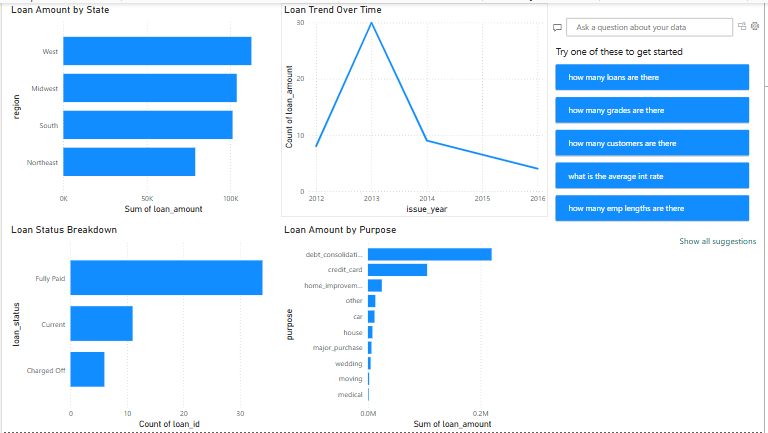

What the dashboard file says about the page in this screenshot:
{"tool":"powerbi","page":{"name":"Analytics visuals","canvas":[1280,720],"ordinal":2},"visuals":[{"type":"barChart","title":"Loan Amount by State","fields":{"Category":["state_region.region"],"Y":["Sum(loan.loan_amount)"]},"box":[10.1,0,448.5,359.5],"z":0},{"type":"barChart","title":"Loan Status Breakdown","fields":{"Category":["loan.loan_status"],"Y":["CountNonNull(loan.loan_id)"]},"box":[10,369,449,351],"z":1},{"type":"lineChart","title":"Loan Trend Over Time","fields":{"Category":["loan_count_by_year.issue_year"],"Y":["CountNonNull(loan.loan_amount)"]},"box":[469,0,449,359],"z":2},{"type":"barChart","title":"Loan Amount by Purpose","fields":{"Category":["loan_purposes.purpose"],"Y":["Sum(loan.loan_amount)"]},"box":[469,369,449,351],"z":3},{"type":"qnaVisual","box":[917.2,0,362.8,648.4],"z":4}]}

Visuals, with their boxes in screenshot pixels (x1, y1, x2, y2), scaled from the page's 1280x720 canvas onto the 768x433 screenshot:
"Loan Amount by State" barChart: region(6, 0, 275, 216)
"Loan Status Breakdown" barChart: region(6, 222, 275, 432)
"Loan Trend Over Time" lineChart: region(281, 0, 551, 216)
"Loan Amount by Purpose" barChart: region(281, 222, 551, 432)
qnaVisual: region(550, 0, 767, 390)
